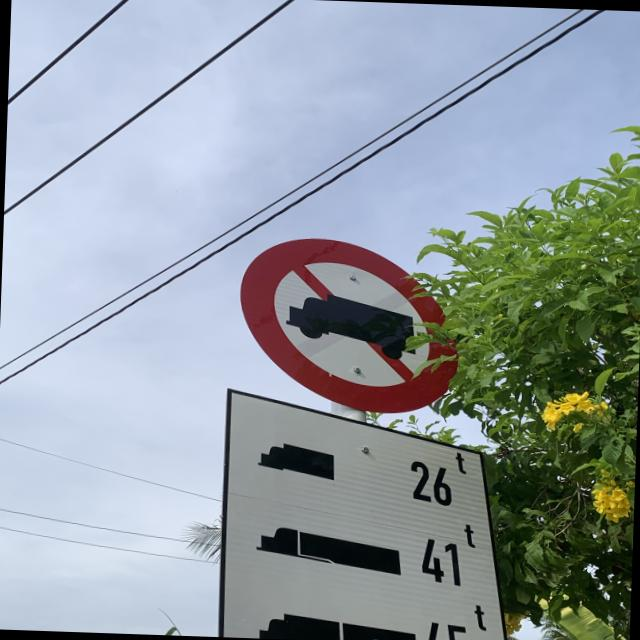Cam_Xe_Tai: (237, 234, 467, 414)
